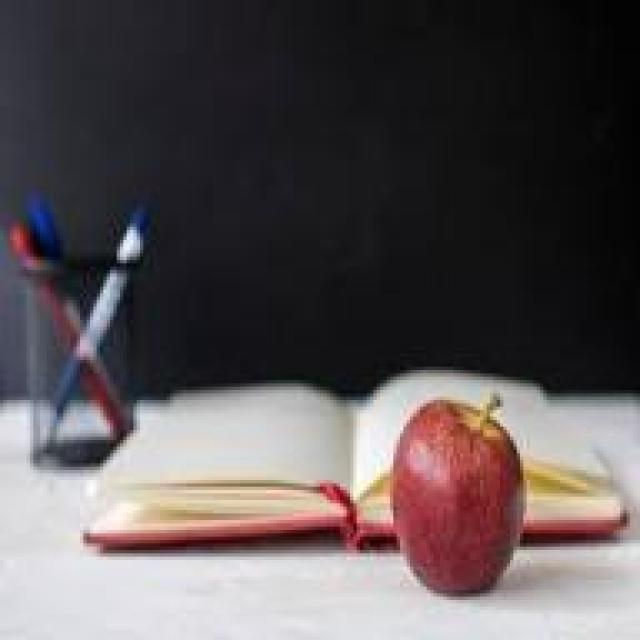apple: (380, 400, 533, 610)
